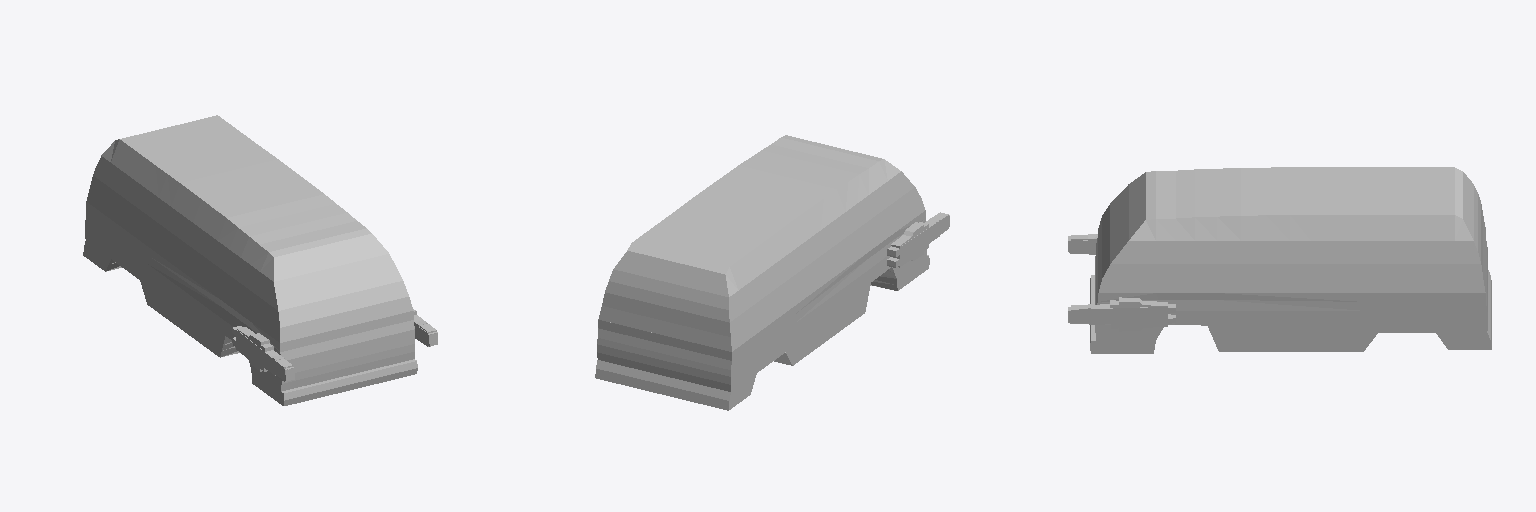
File: KOMBI.obj
3 views of the same model, side by side, from view 1: azimuth 30°, elevation 25°; view 2: azimuth 150°, elevation 25°; view 3: azimuth 270°, elevation 25° (orthographic).
Parts seen in each view (by area): view 1: KOMBI; view 2: KOMBI; view 3: KOMBI.
Boxes of the visible parts, x1=… form: KOMBI: x1=83, y1=115, x2=437, y2=405; KOMBI: x1=595, y1=135, x2=949, y2=410; KOMBI: x1=1068, y1=167, x2=1491, y2=353.
Size of the model in its own units: 6.14 by 5 by 14.74.